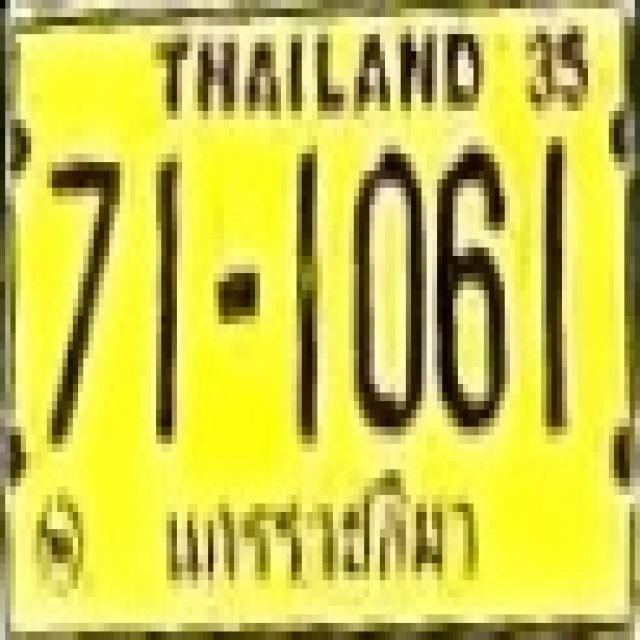0: (348, 136, 422, 426)
1: (538, 136, 564, 426), (292, 150, 318, 440), (151, 154, 177, 435)
6: (432, 136, 505, 426)
7: (44, 150, 117, 440), (50, 150, 117, 388)
NMA: (146, 456, 495, 606)
